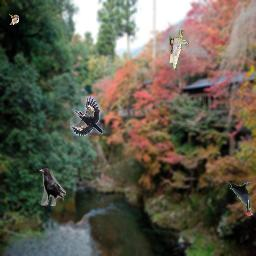Crow: (39, 166, 66, 206)
Sparrow: (169, 30, 189, 70), (9, 14, 19, 25)
Woodpecker: (70, 96, 103, 136), (227, 181, 253, 216)
